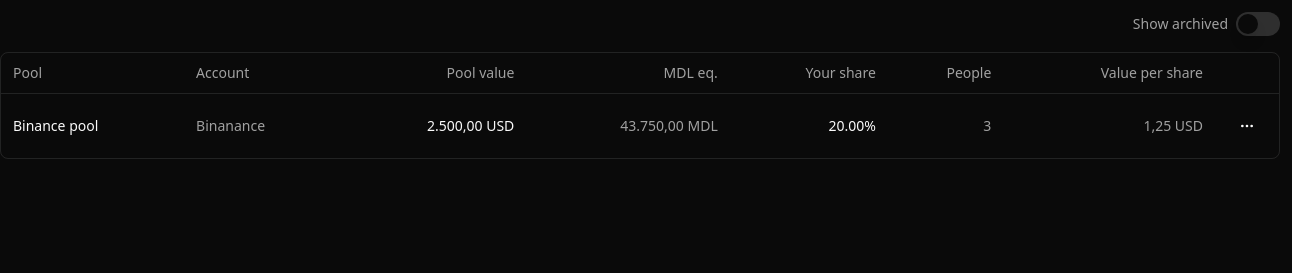
Test case: PoolsTable › offers Archive (not Unarchive) on an active row
Click the button with test id "pool-actions".
click(1247, 126)  # box [1227,106,1267,146]
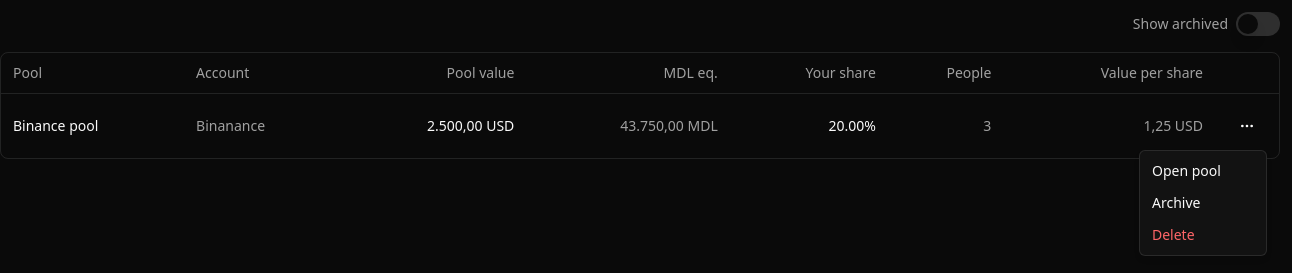
expect the menu item with test id "archive-pool-action" is shown: met, box [1152,193,1200,212]
expect the menu item with test id "delete-pool-action" is shown: met, box [1152,225,1195,244]
